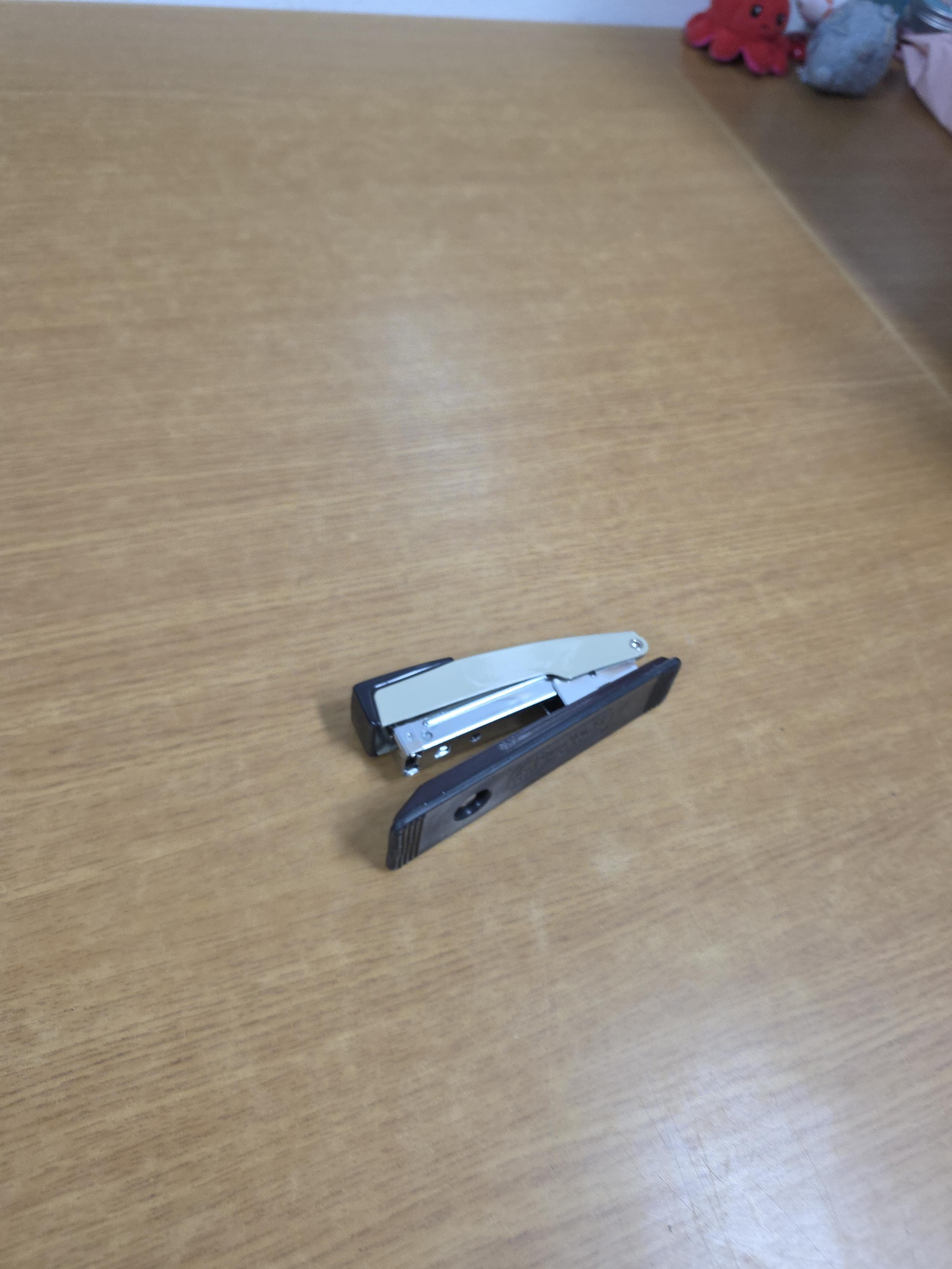stapler: (351, 631, 682, 871)
